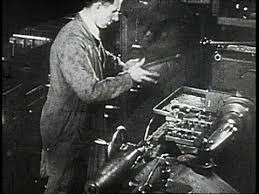person without safety: (36, 1, 162, 193)
